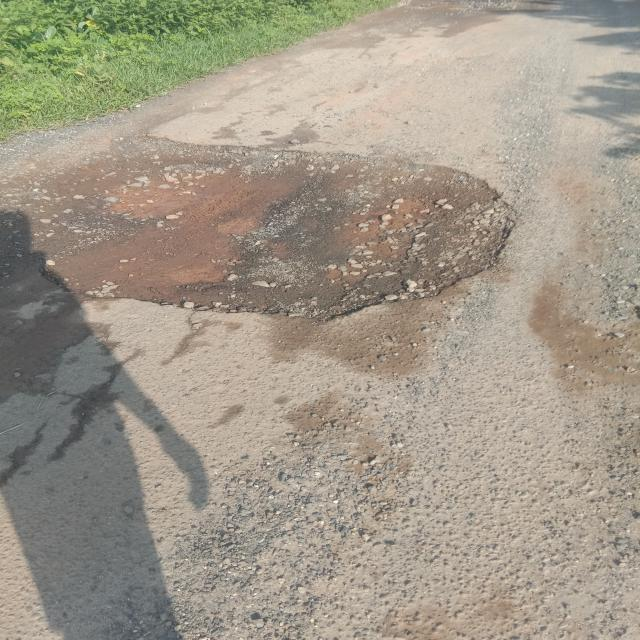potholes: (0, 124, 522, 324)
